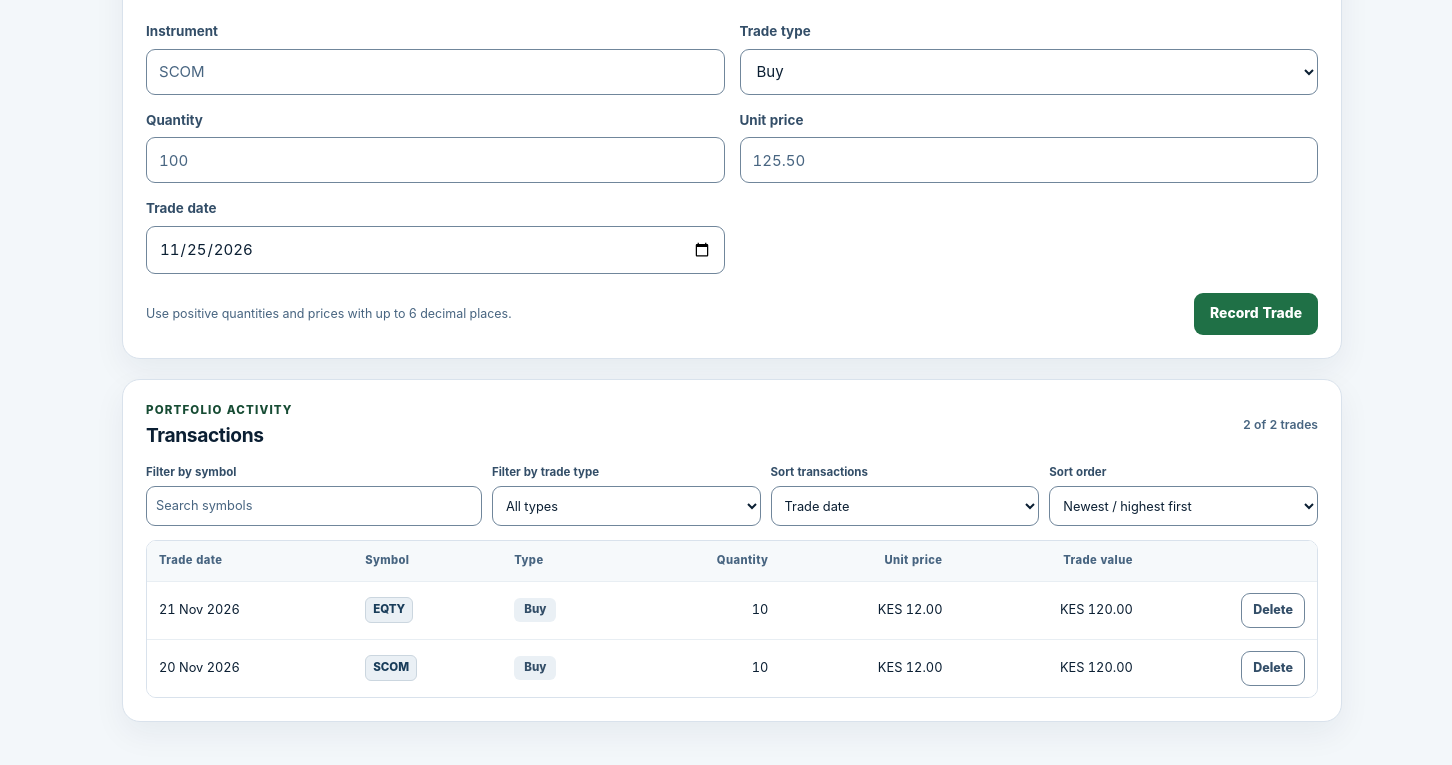
Test case: PortfolioPage trade mutations › does not claim holdings and totals refreshed when the post-delete refresh fails
(page scrolled)
What coordinates should you click on to do the following:
click the button with aria-label "Delete buy SCOM trade"
I would click on:
 (1273, 668)
Its box is [1241, 651, 1305, 686].
(page scrolled)
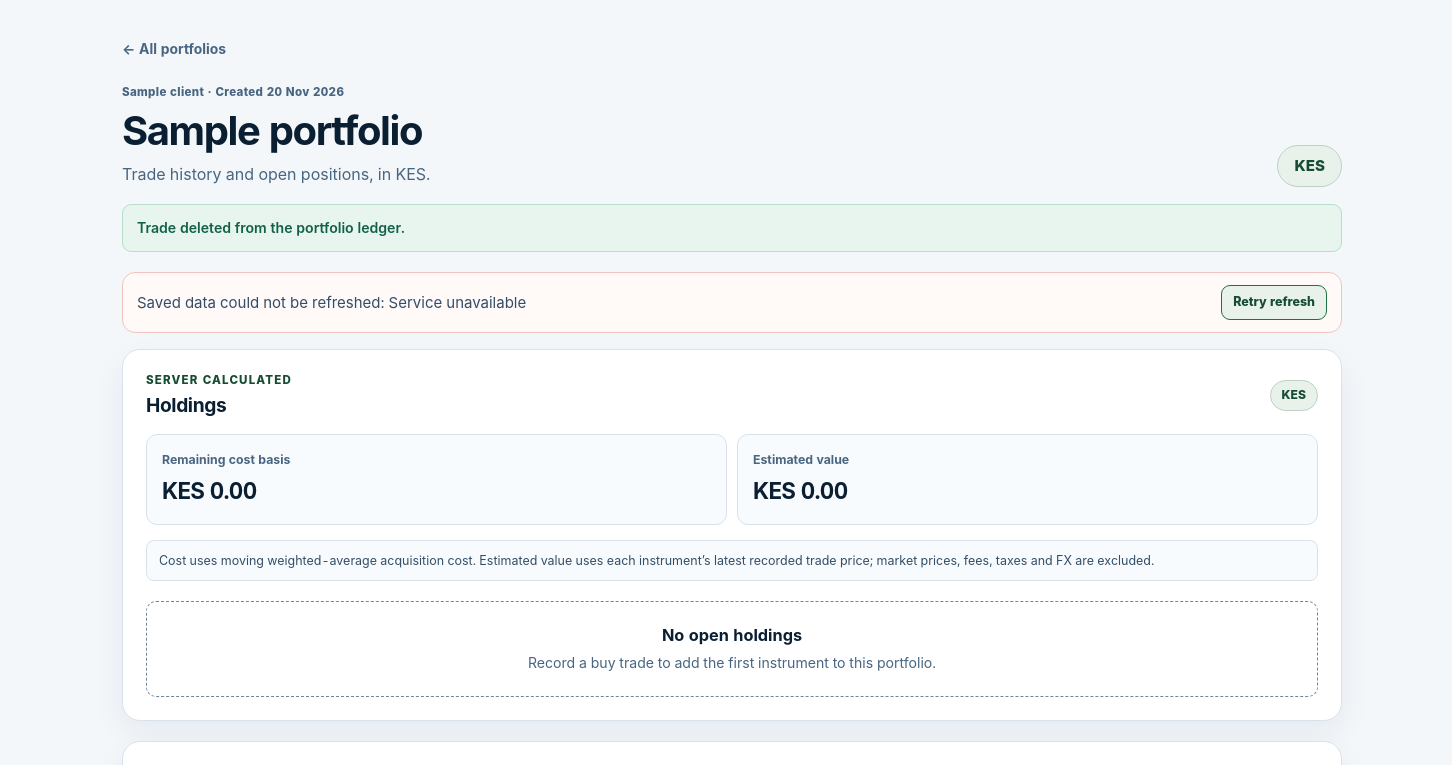
expect the message "Saved data could not be refreshed: Service unavailable Retry refresh" is shown: met, box [122, 272, 1342, 333]
